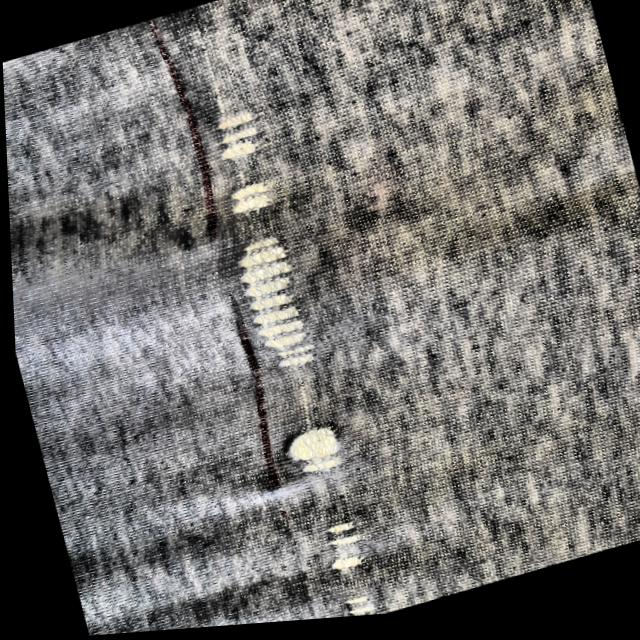Hole: (324, 551, 366, 589), (328, 590, 375, 622)
